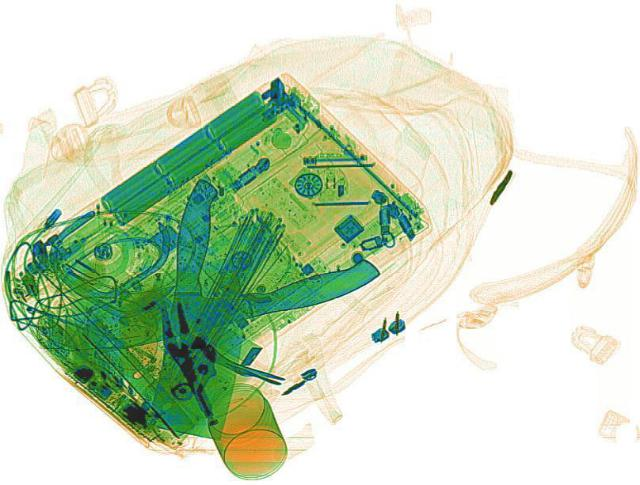Knife: (143, 174, 264, 437), (76, 255, 380, 357)
